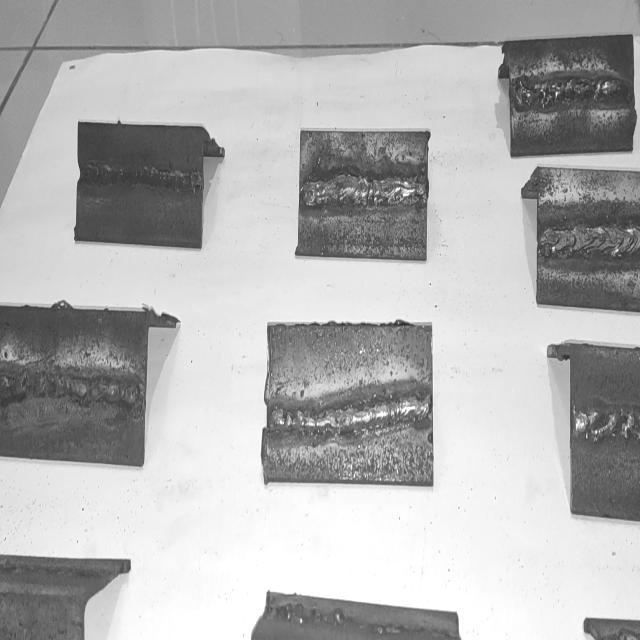Defect: (514, 81, 626, 112), (574, 406, 640, 444), (18, 366, 56, 404)
Welding Line: (268, 391, 431, 439), (78, 160, 202, 200), (298, 171, 428, 206), (2, 371, 144, 403), (513, 78, 632, 109), (540, 221, 640, 254), (576, 404, 640, 446)
Workpiece: (264, 321, 434, 488), (0, 306, 149, 467), (295, 129, 431, 259), (74, 124, 206, 244), (536, 164, 640, 312), (509, 38, 635, 158), (569, 340, 640, 526)
